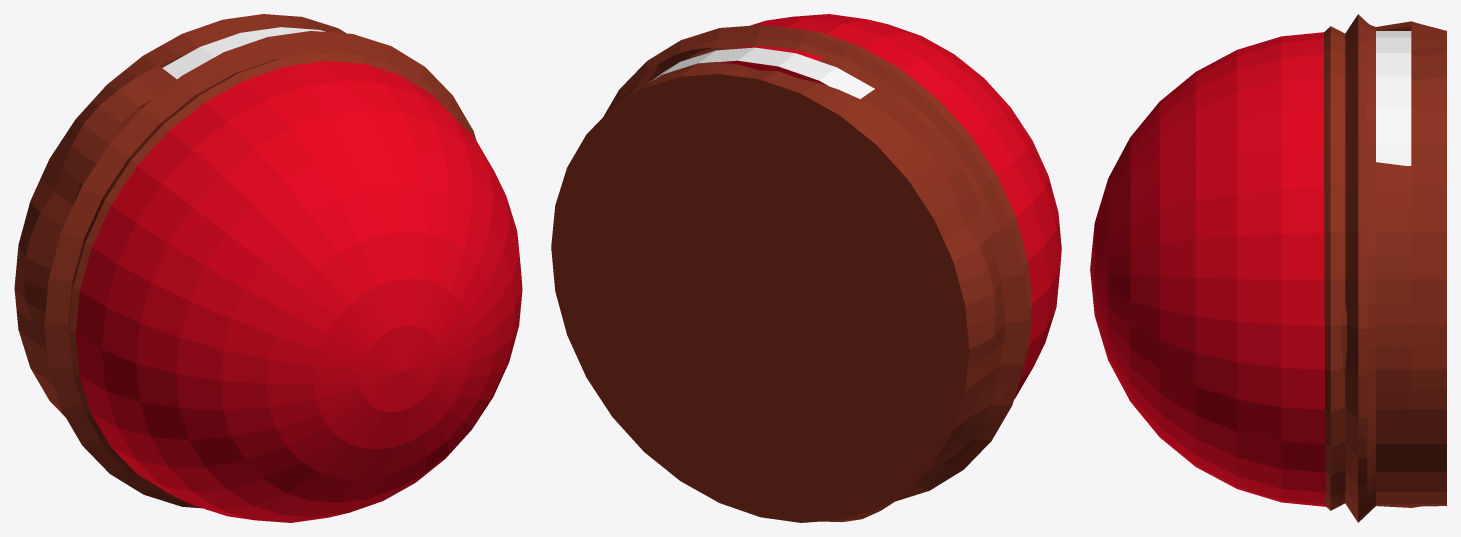
File: PRP_EmergencyLight.fbx
3 renders of one model, left to right at view 1: azimuth 30°, elevation 25°; view 2: azimuth 150°, elevation 25°; view 3: azimuth 270°, elevation 25°, orthographic.
Parts seen in each view (by area): view 1: Cylinder.001; view 2: Cylinder.001; view 3: Cylinder.001.
Boxes of the visible parts, bbox=[...] form: Cylinder.001: bbox=[14, 14, 522, 522]; Cylinder.001: bbox=[551, 14, 1061, 522]; Cylinder.001: bbox=[1090, 14, 1446, 522].
Size of the model in its own units: 0.3714 by 0.3714 by 0.2601.
